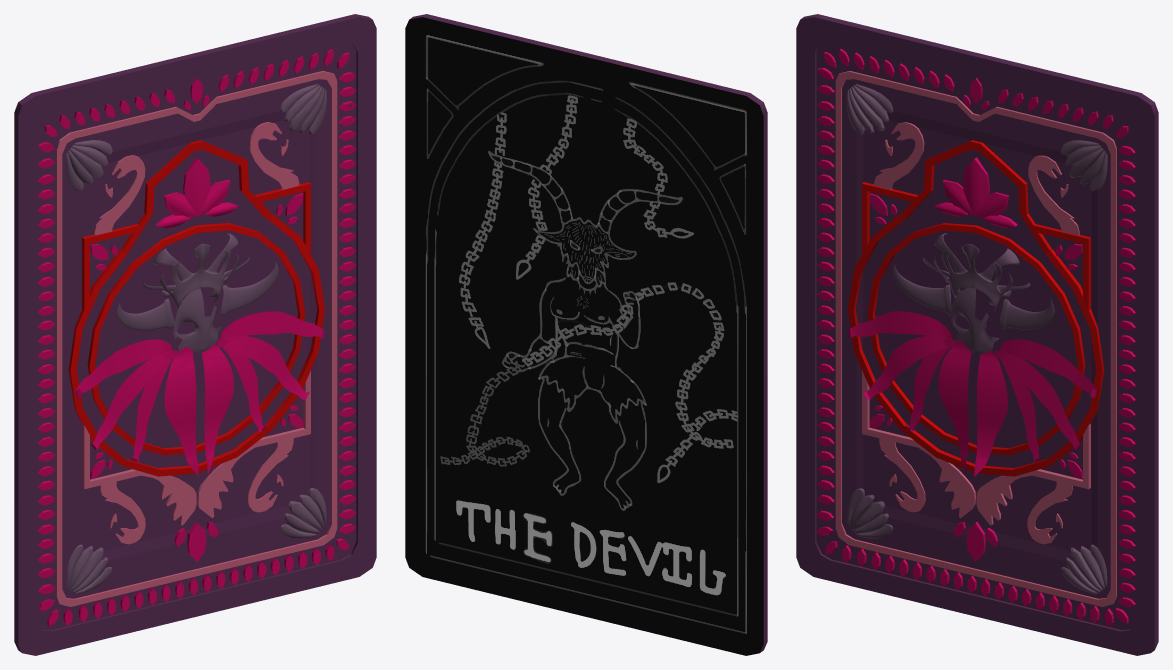
File: Mesh Devil.fbx
3 views of the same model, side by side, from view 1: azimuth 30°, elevation 25°; view 2: azimuth 150°, elevation 25°; view 3: azimuth 330°, elevation 25° (orthographic).
Parts seen in each view (by area): view 1: Death3; view 2: Death3; view 3: Death3.
Boxes of the visible parts, bbox=[...] form: Death3: bbox=[14, 14, 376, 655]; Death3: bbox=[405, 14, 767, 655]; Death3: bbox=[796, 14, 1158, 655].
Bounding box in the file's own units: 321 × 479 × 15.55.
